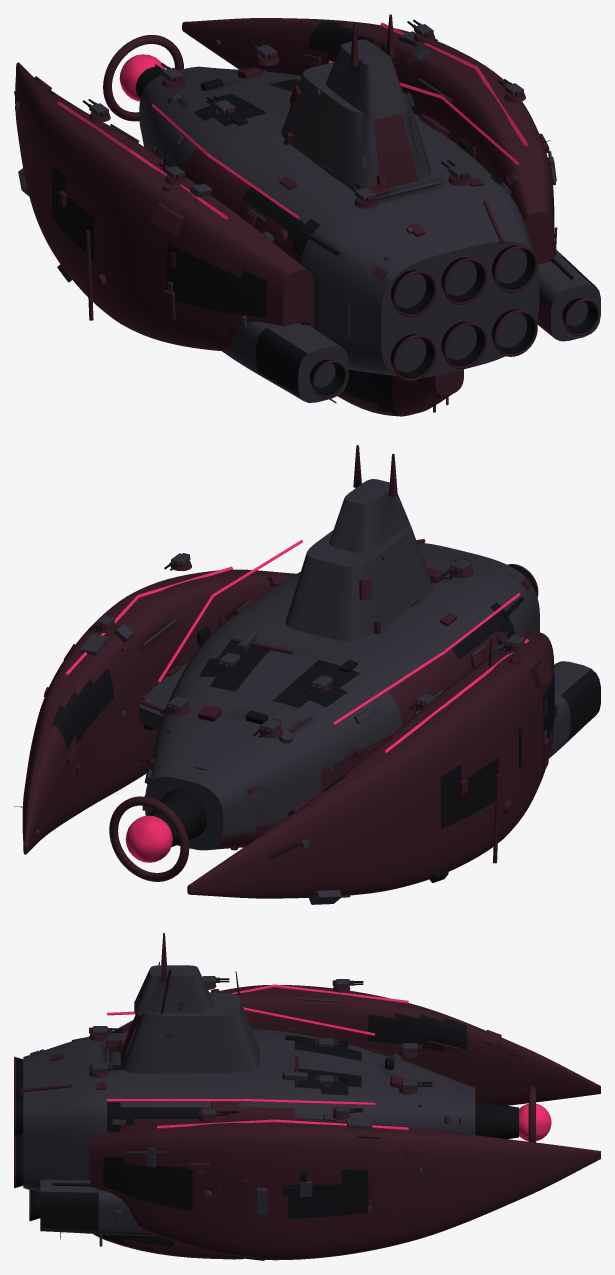
Rendered from eclipse-transformed.glb.
The picture shows the model from 3 angles, top to bottom: view 1: azimuth 30°, elevation 25°; view 2: azimuth 150°, elevation 25°; view 3: azimuth 270°, elevation 25°; orthographic projection. The views are drawn at different scales.
Parts seen in each view (by area): view 1: eclipse; view 2: eclipse; view 3: eclipse.
Part boxes in pixels (x1=…): eclipse: x1=14, y1=14, x2=600, y2=416; eclipse: x1=14, y1=445, x2=600, y2=904; eclipse: x1=14, y1=933, x2=600, y2=1260.
Size of the model in its own units: 2225 by 2015 by 3400.
